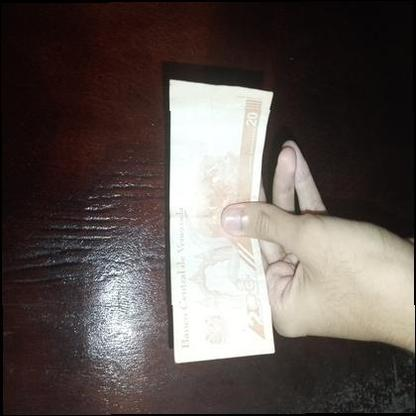twenty-back-vef: (169, 79, 275, 363)
